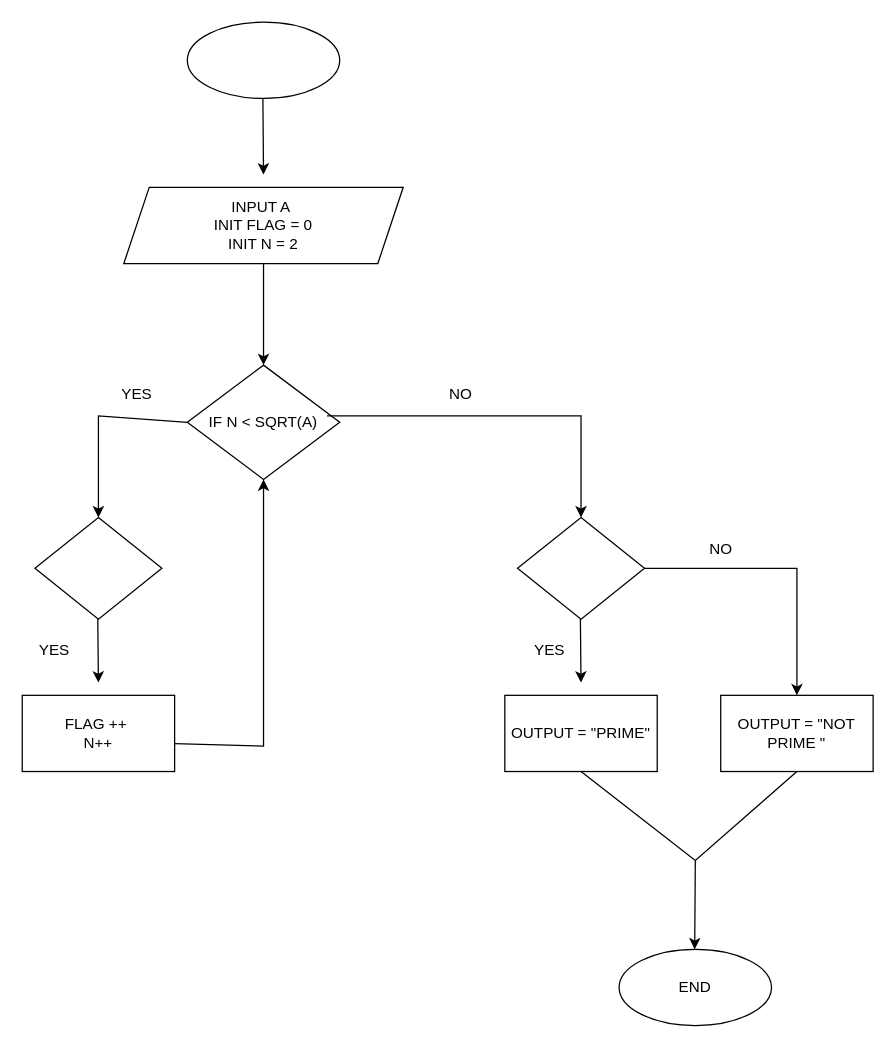
Some shapes in this 895 by 1048 pixel diagram are drawn without their labels. The shapes that lost their labels are listed below. From the top down, each one's centre as x and y in pixels, then its label:
At pixel 263 59: "START".
At pixel 98 567: "IF A % N == 0".
At pixel 580 567: "IF FLAG == 0".
